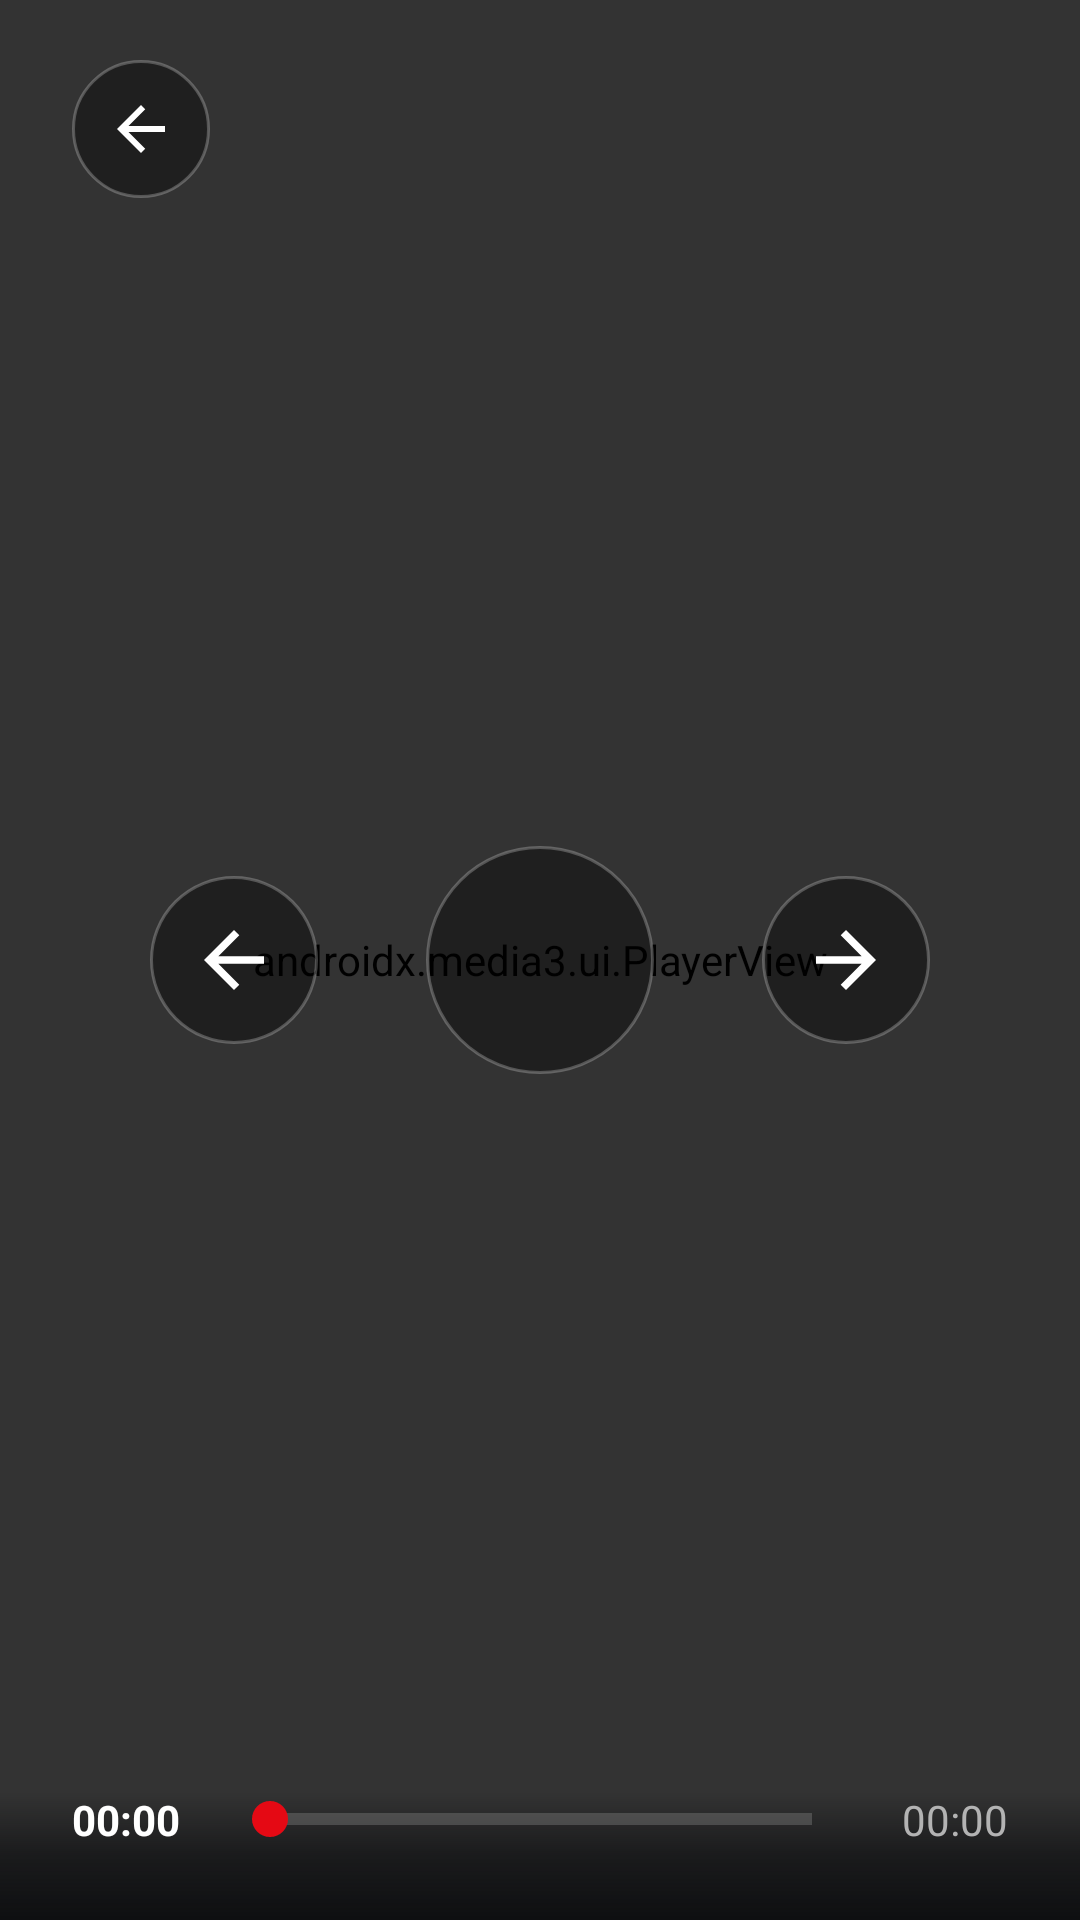

Locate icon controls on the screen. Image size 1080*1920, boxes as (x1, y1, x2, y2).
Voltar: (72, 60, 210, 198)
